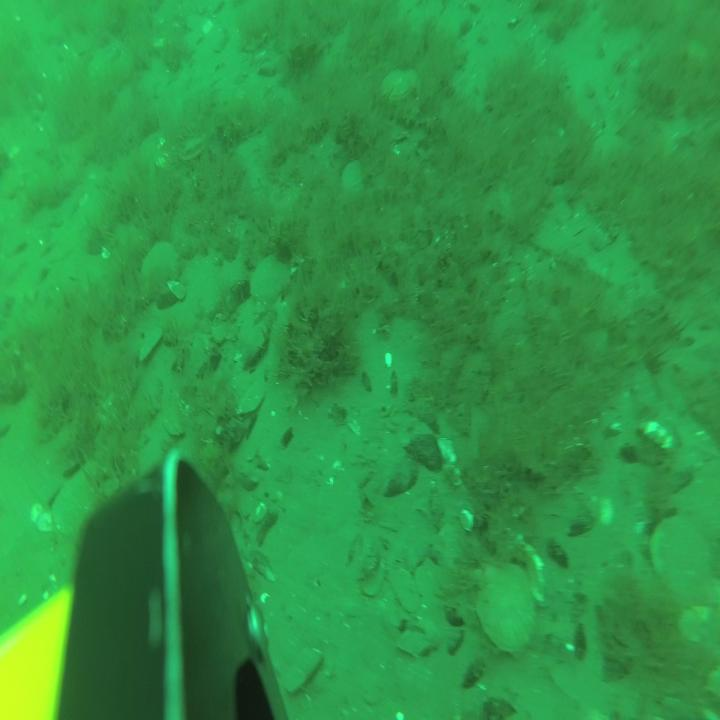scallop: (647, 510, 713, 608), (476, 555, 538, 654), (250, 245, 293, 317), (142, 238, 180, 300), (138, 126, 180, 177), (381, 62, 421, 106), (338, 154, 373, 200), (178, 125, 214, 165)
